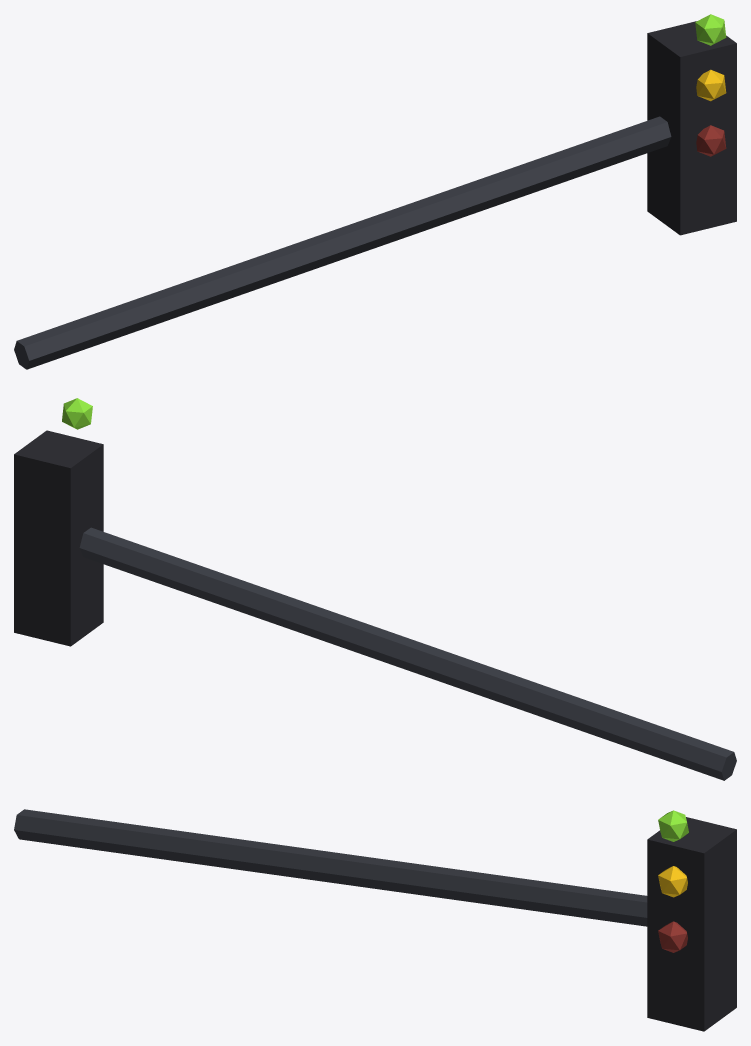
The model's file is traffic_light_fallen.glb.
3 renders of one model, top to bottom at view 1: azimuth 30°, elevation 25°; view 2: azimuth 150°, elevation 25°; view 3: azimuth 330°, elevation 25°, orthographic.
Visible parts, largest first — view 1: traffic_light_fallen; view 2: traffic_light_fallen; view 3: traffic_light_fallen.
Boxes of the visible parts, x1=… form: traffic_light_fallen: x1=14, y1=14, x2=736, y2=369; traffic_light_fallen: x1=14, y1=398, x2=736, y2=780; traffic_light_fallen: x1=14, y1=809, x2=736, y2=1031.
Bounding box in the file's own units: 3.7 × 1.09 × 0.3881.
